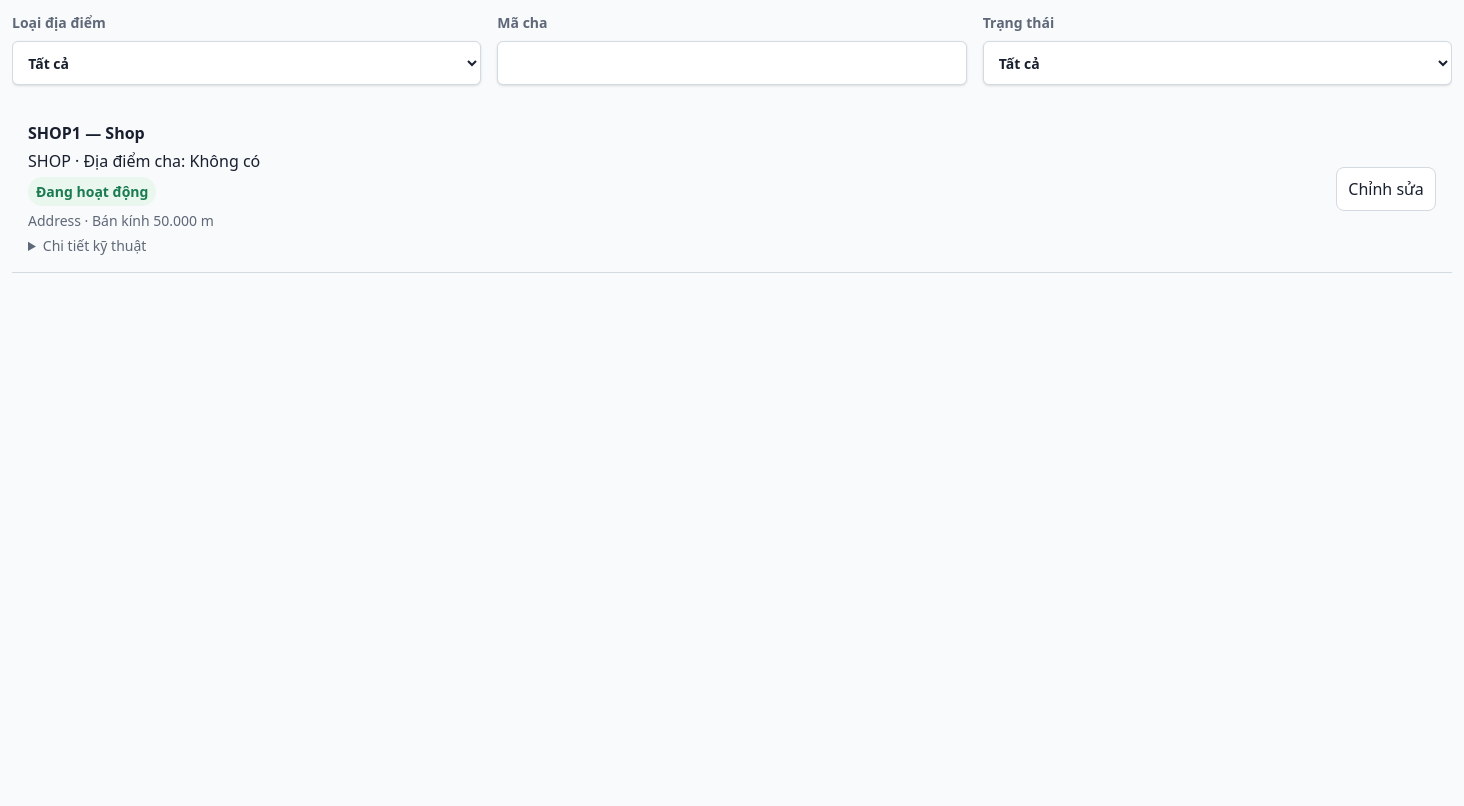
LocationDirectory › does not claim a save when the Location draft is unchanged
Step 1. Click the button with aria-label "Chỉnh sửa SHOP1" → x=1386, y=188, box [1336,166,1436,210]
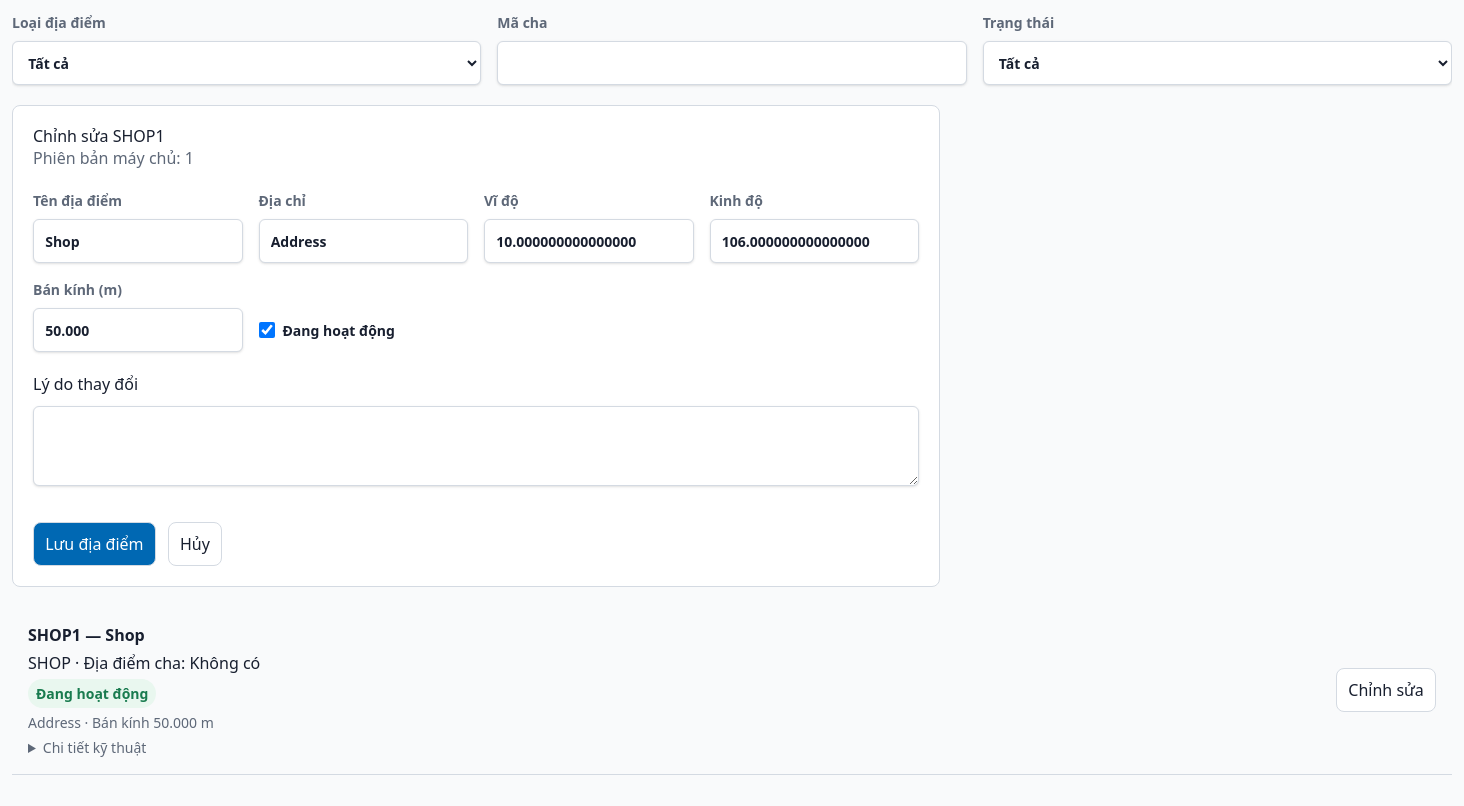
Step 2. Click the button "Lưu địa điểm" → x=94, y=544, box [33,522,156,566]
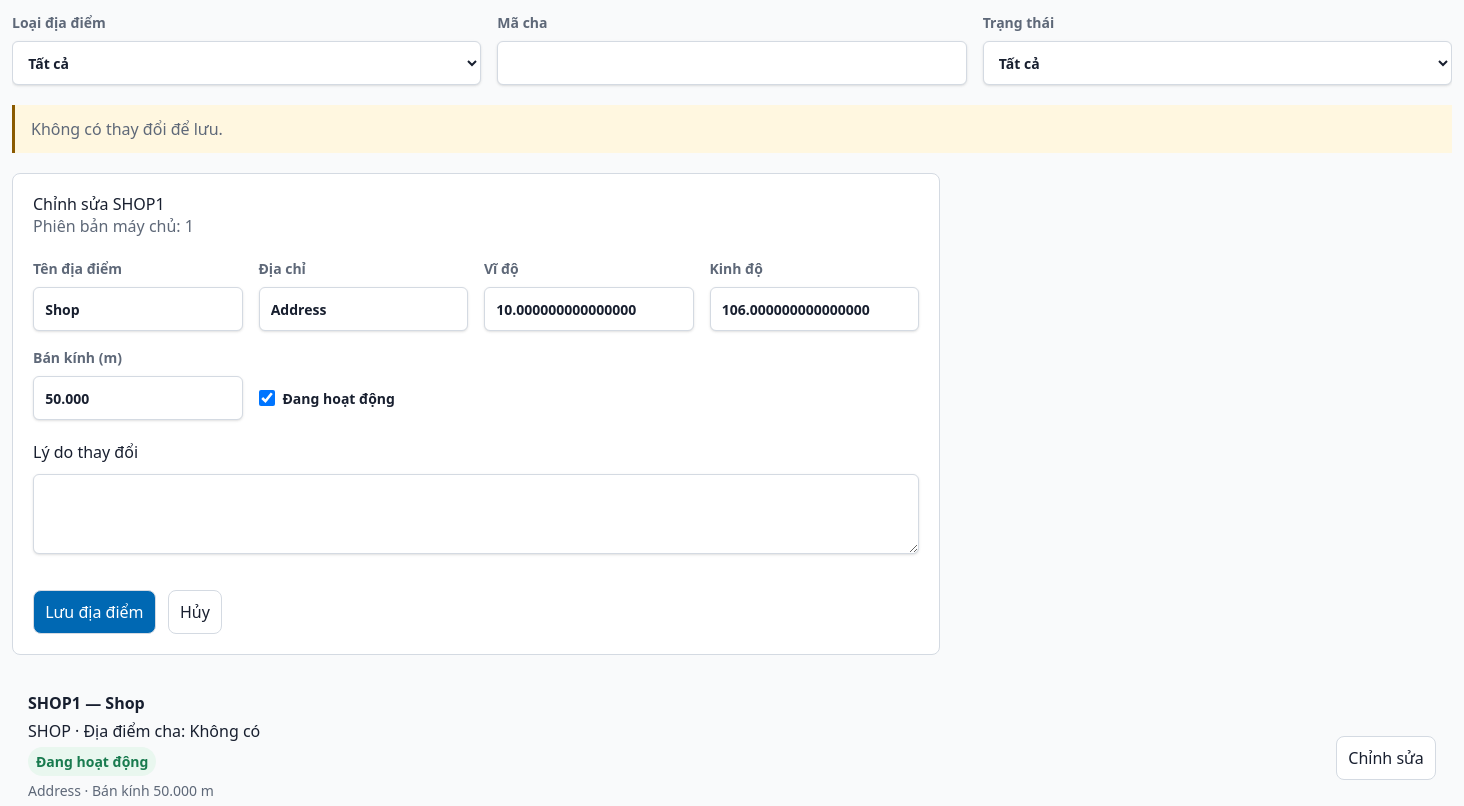
Expected: the message shows "Không có thay đổi", [31,118,223,140]
